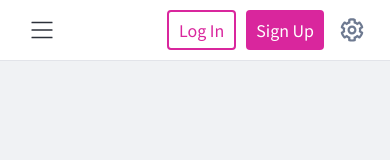
Test case: <Header /> › open/close board
What coordinates should you click on to do the following:
click the button named "Open Board"
I would click on:
 (42, 30)
Its box is [20,10,64,50].
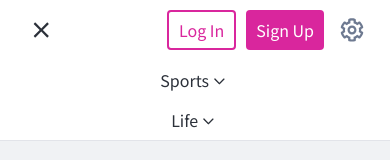
Expected: the button named "Close Board" is shown
What coordinates should you click on to do the following:
click the button named "Close Board"
I would click on:
 (42, 30)
Its box is [20,10,64,50].
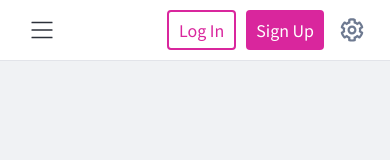
Expected: the button named "Open Board" is shown, [20,10,64,50]
